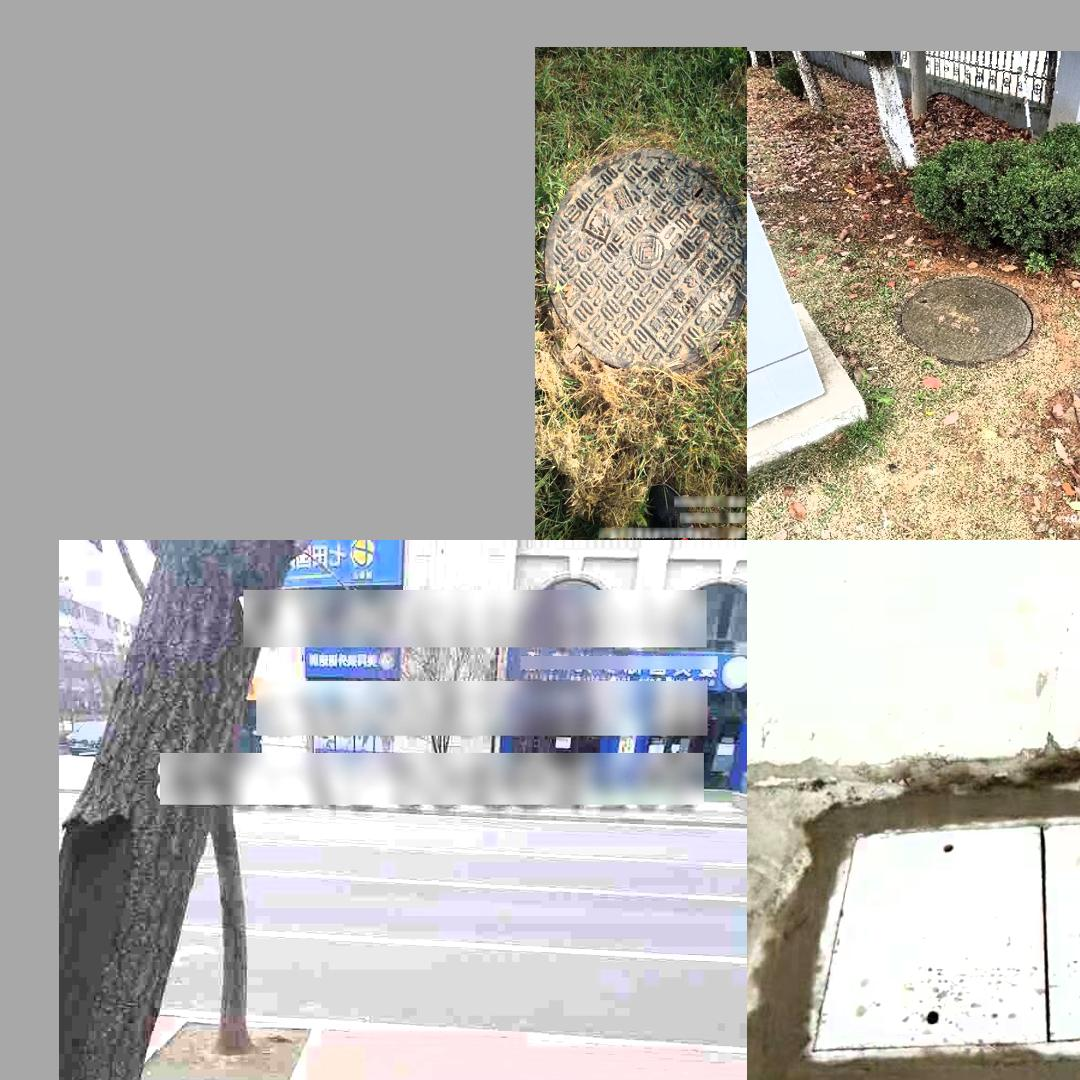good: (813, 820, 1080, 1045), (543, 148, 743, 373), (895, 273, 1041, 367)
